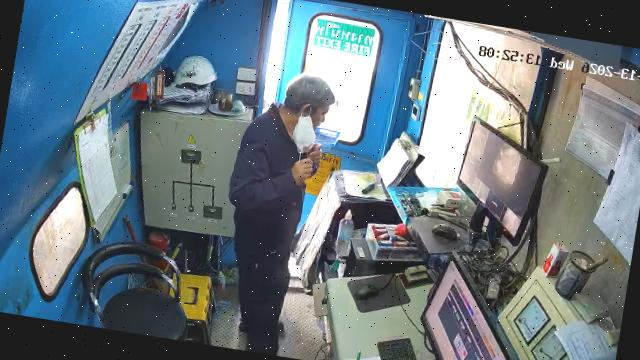Head: (284, 74, 334, 129)
People: (228, 74, 334, 355)
